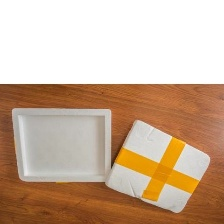foam_box: (101, 114, 214, 216), (8, 104, 116, 187)
